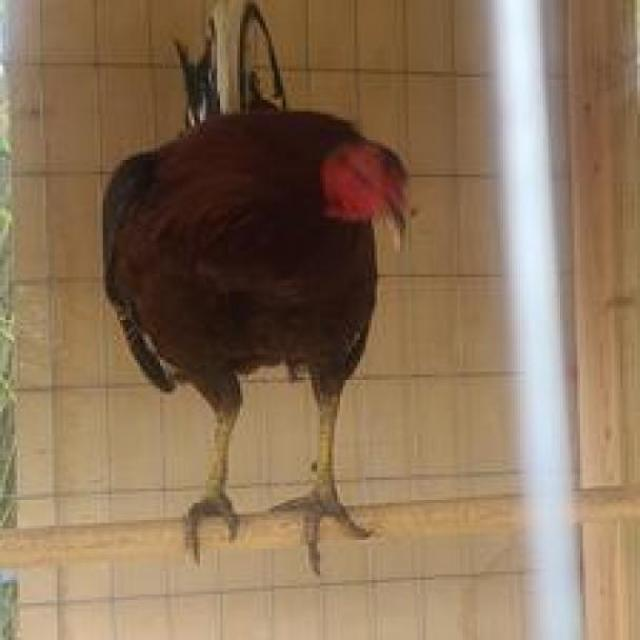Chicken: (92, 0, 472, 578)
